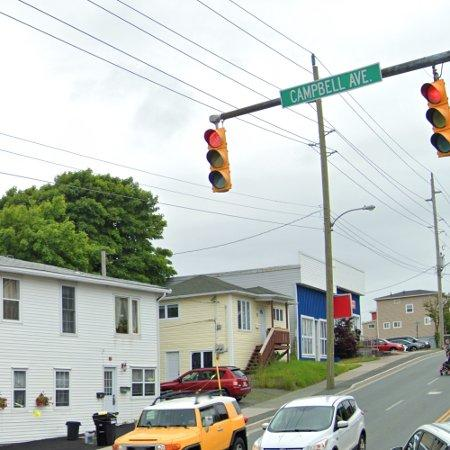traffic lights: (205, 129, 232, 193)
